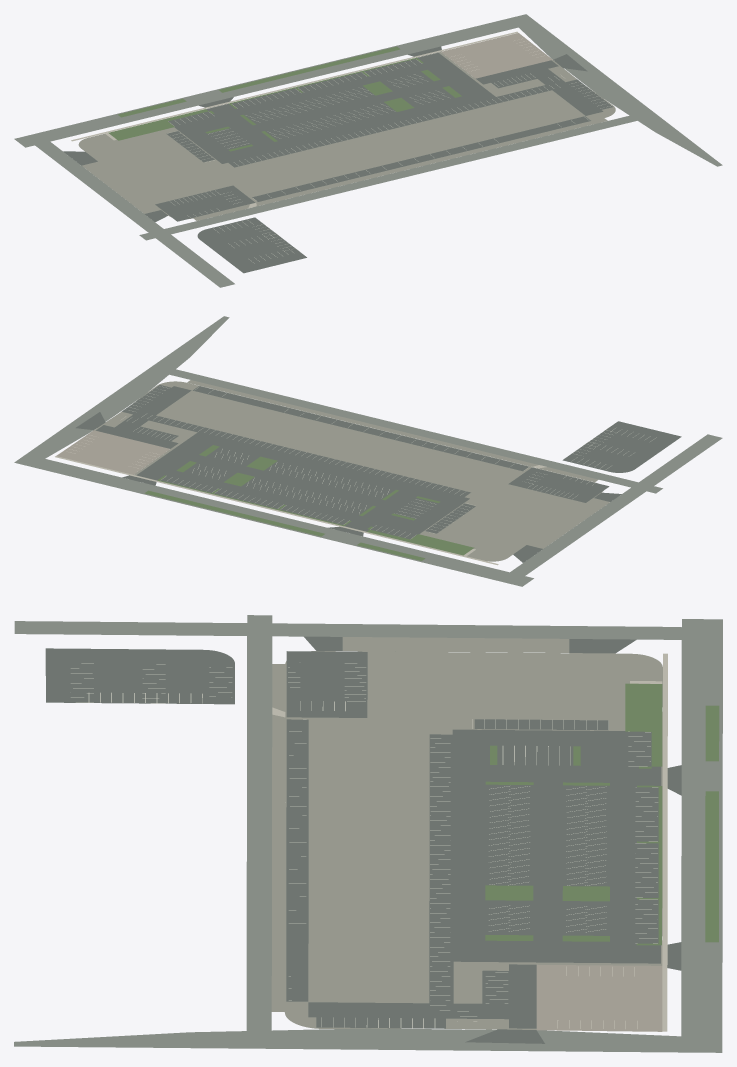
Rendered from site-context.glb.
3 renders of one model, top to bottom at view 1: azimuth 30°, elevation 25°; view 2: azimuth 150°, elevation 25°; view 3: azimuth 270°, elevation 25°, orthographic. The views are drawn at different scales.
Visible parts, largest first — view 1: site-zone-site-common-ground/surface, site-zone-main-field/surface, site-zone-road-arnould/surface, site-zone-road-johnston/surface, site-zone-road-ma/surface, site-zone-lot-7/surface, site-zone-road-patricia/surface, site-zone-jd-bank-context/surface, site-zone-storefront-row/surface, site-zone-rear-ma/surface, site-zone-lot-8/surface, site-zone-ma-shoulder/surface (+9 smaller); view 2: site-zone-site-common-ground/surface, site-zone-main-field/surface, site-zone-road-arnould/surface, site-zone-road-johnston/surface, site-zone-road-ma/surface, site-zone-lot-7/surface, site-zone-road-patricia/surface, site-zone-jd-bank-context/surface, site-zone-storefront-row/surface, site-zone-rear-ma/surface, site-zone-lot-8/surface, site-zone-ma-shoulder/surface (+10 smaller); view 3: site-zone-site-common-ground/surface, site-zone-main-field/surface, site-zone-road-arnould/surface, site-zone-road-johnston/surface, site-zone-road-ma/surface, site-zone-lot-7/surface, site-zone-road-patricia/surface, site-zone-jd-bank-context/surface, site-zone-storefront-row/surface, site-zone-rear-ma/surface, site-zone-lot-8/surface, site-zone-ma-shoulder/surface (+20 smaller).
Part boxes in pixels (x1,y1,x2,y2): site-zone-site-common-ground/surface: (78,52,615,219); site-zone-main-field/surface: (168,52,495,163); site-zone-road-arnould/surface: (14,18,518,147); site-zone-road-johnston/surface: (509,14,722,166); site-zone-road-ma/surface: (139,115,637,240); site-zone-lot-7/surface: (197,217,306,273); site-zone-road-patricia/surface: (35,142,234,287); site-zone-jd-bank-context/surface: (441,33,552,78); site-zone-storefront-row/surface: (228,85,551,167); site-zone-rear-ma/surface: (252,116,590,201); site-zone-lot-8/surface: (155,185,254,221); site-zone-ma-shoulder/surface: (193,118,607,220); site-zone-site-common-ground/surface: (94,381,602,561); site-zone-main-field/surface: (136,432,469,539); site-zone-road-arnould/surface: (31,459,533,586); site-zone-road-johnston/surface: (14,316,229,466); site-zone-road-ma/surface: (169,369,662,493); site-zone-lot-7/surface: (562,421,681,472); site-zone-road-patricia/surface: (510,434,722,575); site-zone-jd-bank-context/surface: (56,430,169,474); site-zone-storefront-row/surface: (149,415,470,497); site-zone-rear-ma/surface: (193,386,529,471); site-zone-lot-8/surface: (508,467,609,502); site-zone-ma-shoulder/surface: (187,380,598,482); site-zone-site-common-ground/surface: (285,651,662,1029); site-zone-main-field/surface: (452,729,661,963); site-zone-road-arnould/surface: (681,619,722,1037); site-zone-road-johnston/surface: (14,1028,722,1052); site-zone-road-ma/surface: (246,615,272,1030); site-zone-lot-7/surface: (45,648,234,704); site-zone-road-patricia/surface: (14,621,681,639); site-zone-jd-bank-context/surface: (536,964,662,1031); site-zone-storefront-row/surface: (429,734,453,1003); site-zone-rear-ma/surface: (286,719,308,1001); site-zone-lot-8/surface: (286,651,367,717); site-zone-ma-shoulder/surface: (271,664,285,1012).
Size of the model in its own units: 245 by 0.1108 by 168.
